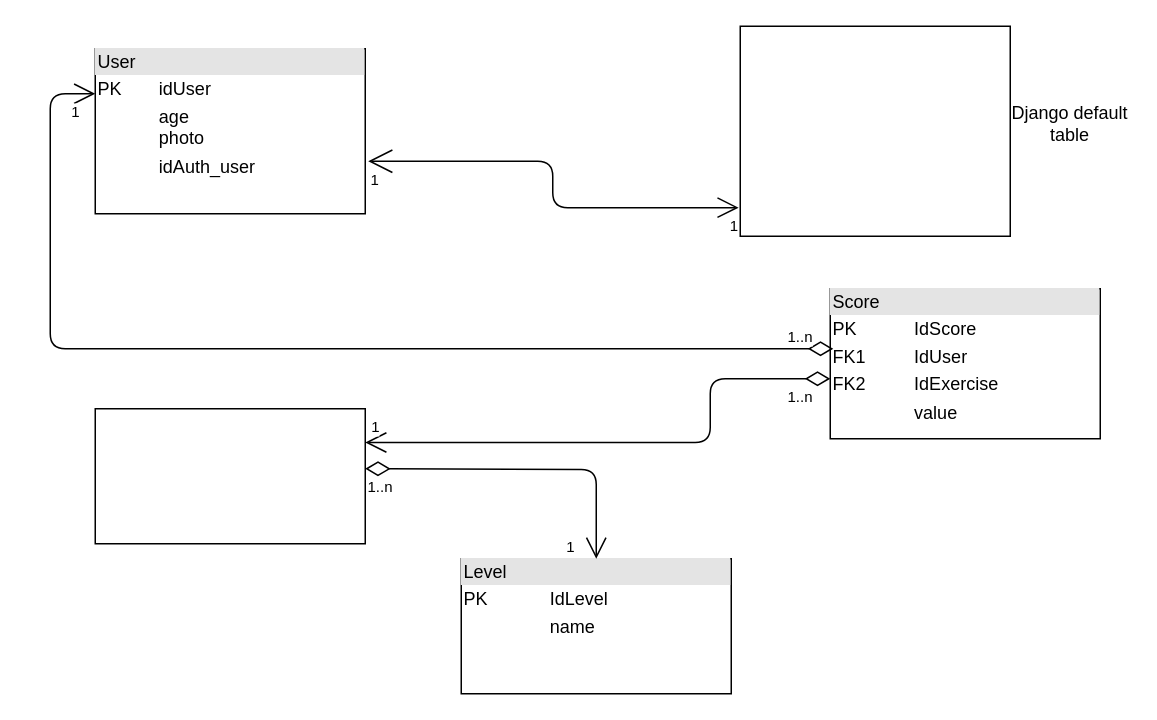
The diagram is 1157 pixels wide and 720 high, and some of its shapes have lost their labels. The shapes that lost their labels are listed below. From the top down, each one's centre as x and y in pixels, then its label:
At point 874,130: "auth_User PK idAuth_user username password first_name last_name email idUser".
At point 229,475: "Exercise PK IdExercise FK1 IdLevel text punctuation".
